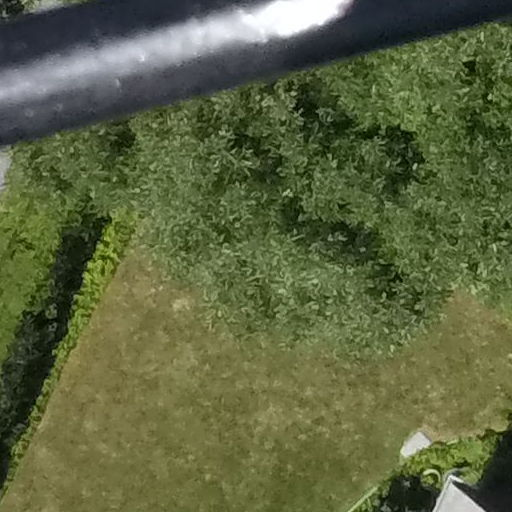flower pot: (416, 461, 439, 492)
